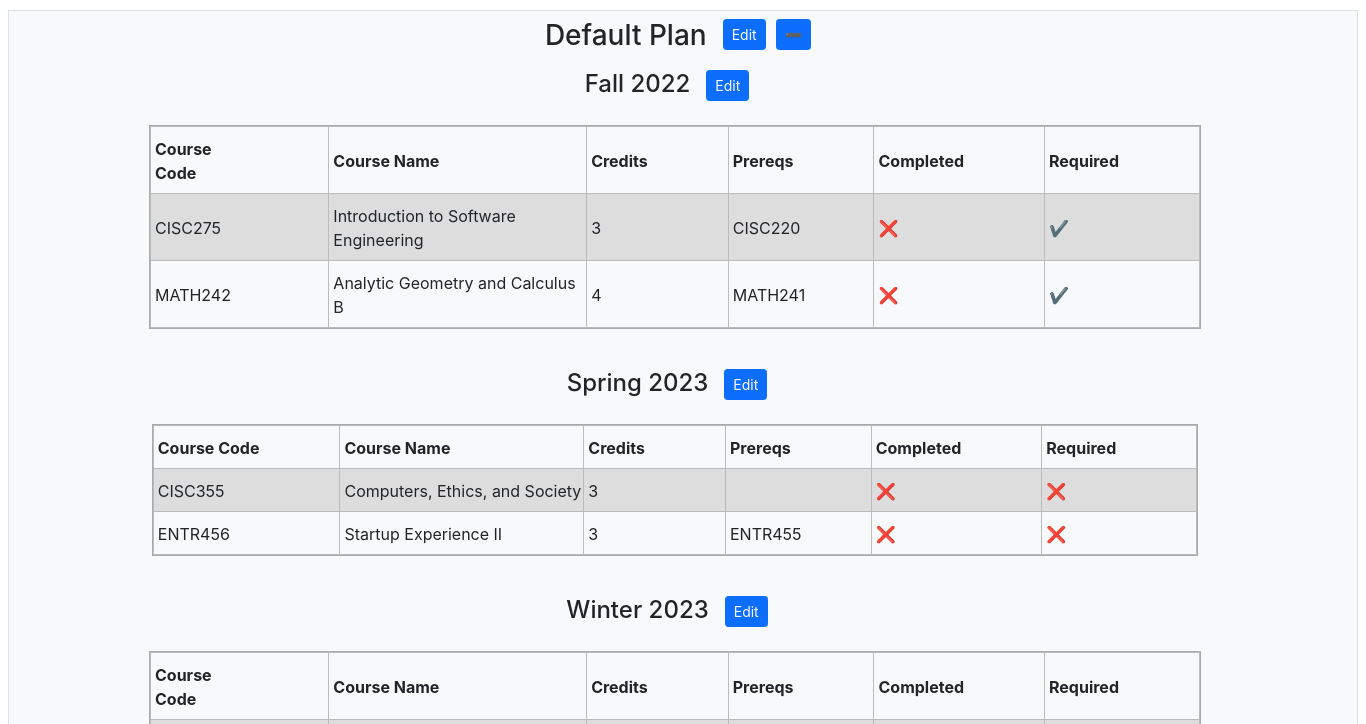
Edit, Add, and Remove Courses Tests › tesing edit a course
The image size is (1366, 724).
(page scrolled)
Note: selecting spring2023
Click the 2nd button with test id "edit" at point(746, 385), box [724,369,767,400]
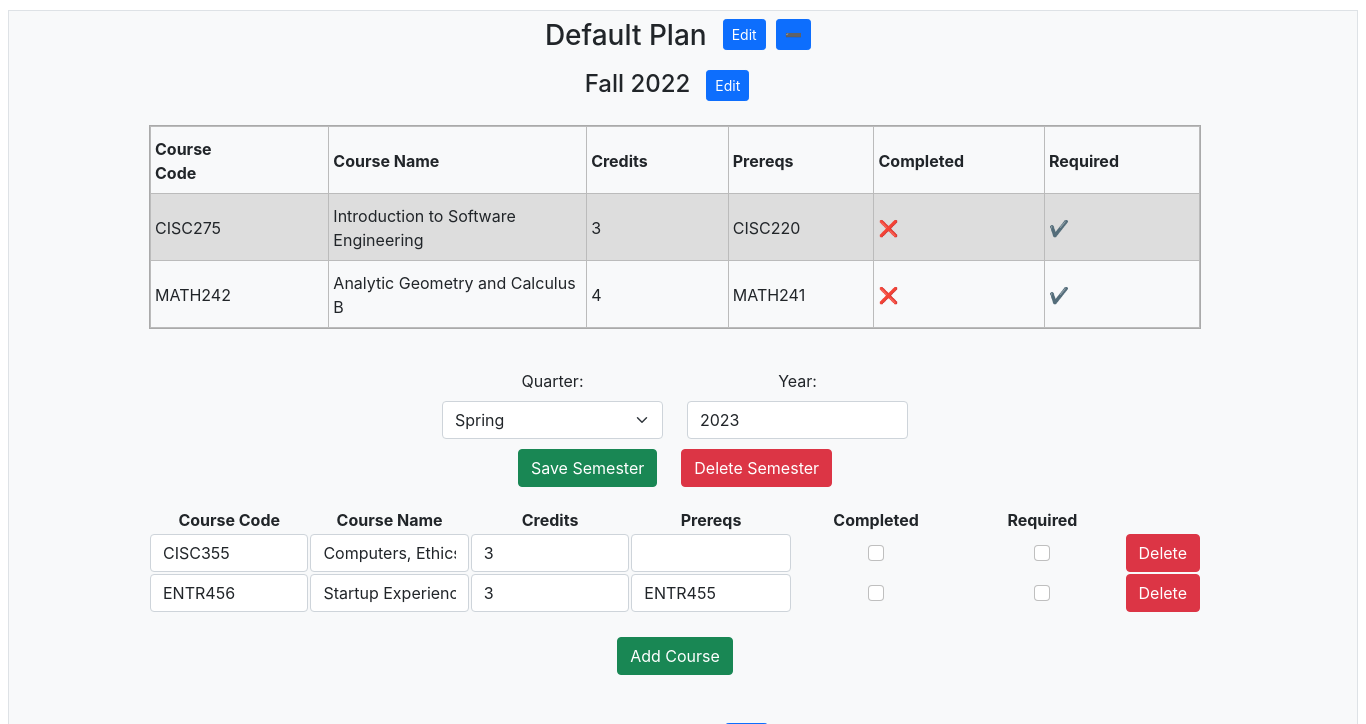
Note: changing course code to CISC367 of first course
Type "CISC367" into the 2nd field at point(229, 553), box [150,534,308,572]
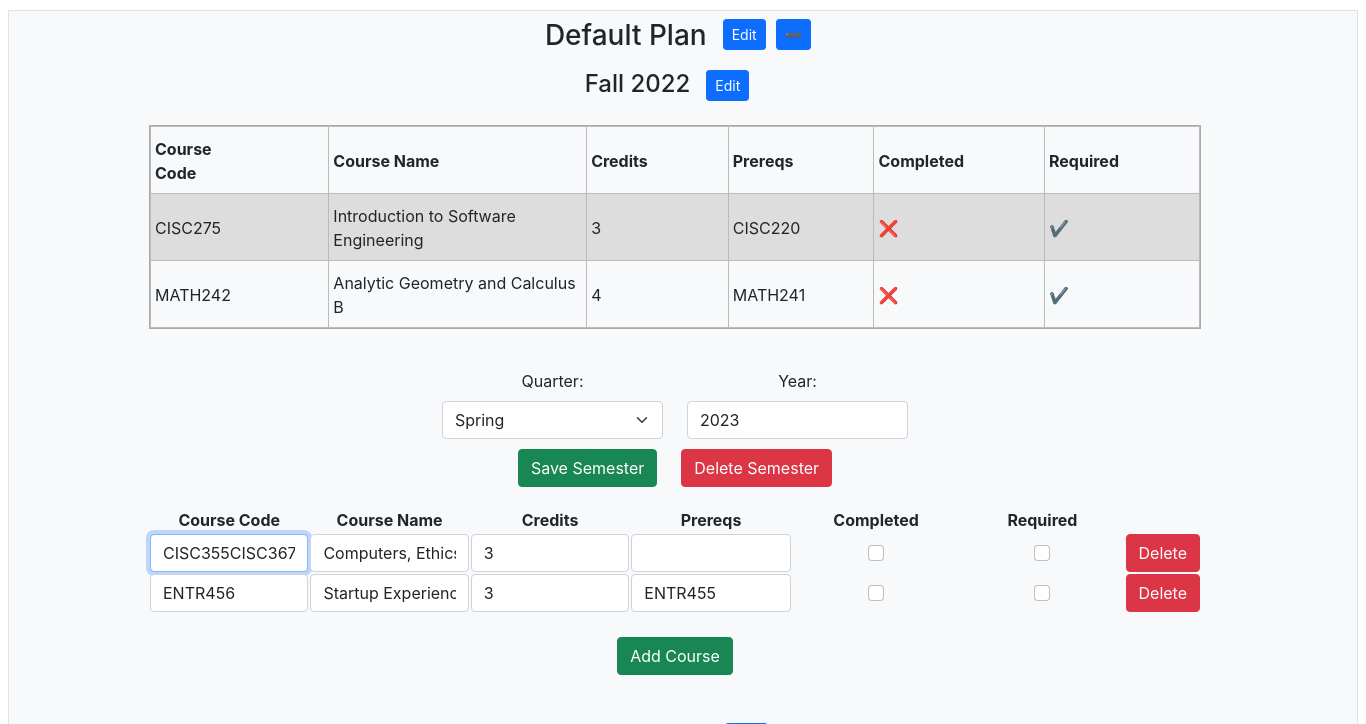
Note: saving semester
Click the button with test id "save-semester" at point(588, 468), box [518,449,657,487]
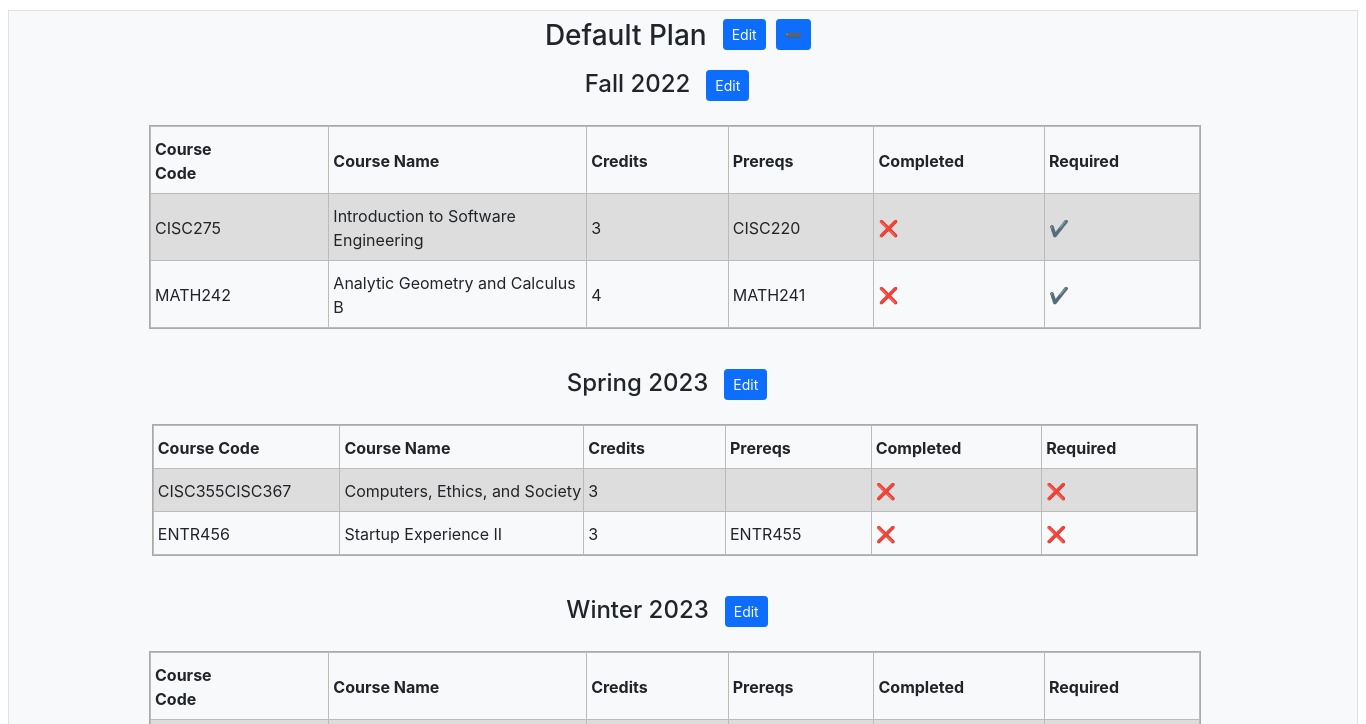
Now the text "CISC355CISC367" is shown, box [153,469,340,512]
